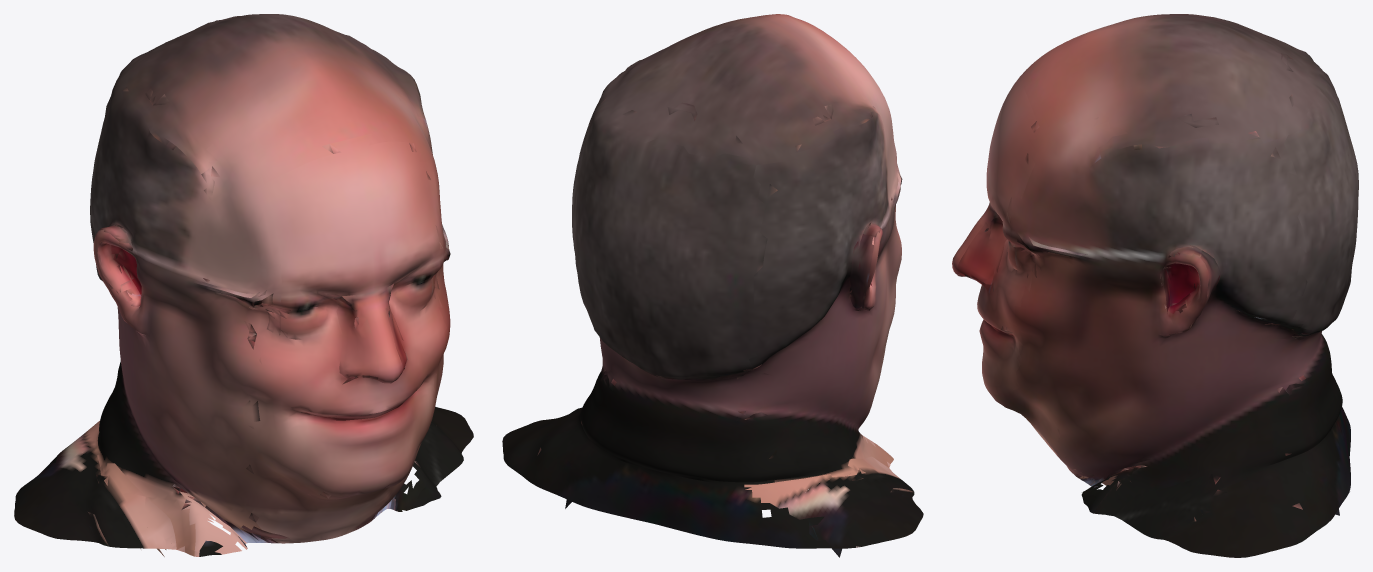
Rendered from Mr_Loyd.glb.
3 renders of one model, left to right at view 1: azimuth 30°, elevation 25°; view 2: azimuth 150°, elevation 25°; view 3: azimuth 270°, elevation 25°, orthographic. The views are drawn at different scales.
Parts seen in each view (by area): view 1: Mr.Loyd; view 2: Mr.Loyd; view 3: Mr.Loyd.
Boxes of the visible parts, x1=… form: Mr.Loyd: x1=14, y1=14, x2=473, y2=556; Mr.Loyd: x1=502, y1=14, x2=923, y2=557; Mr.Loyd: x1=952, y1=14, x2=1358, y2=557.
Size of the model in its own units: 5.93 by 6.22 by 5.07.
1 material, 1 textured.
